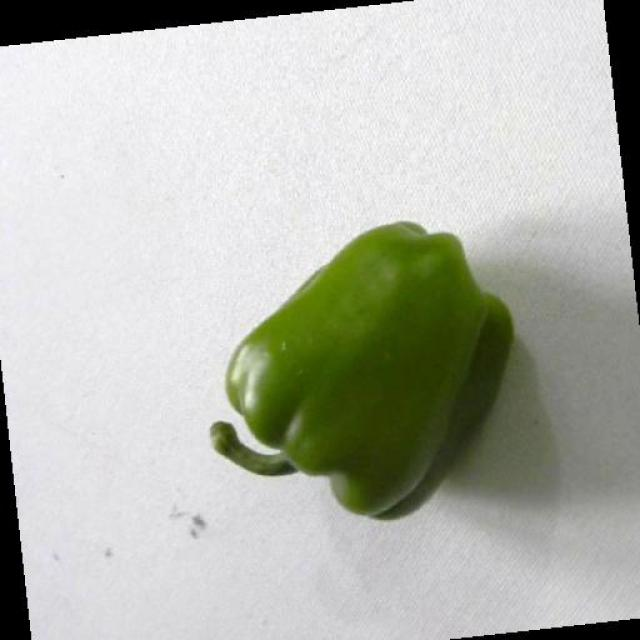Fresh_Capsicum: (167, 202, 530, 513)
